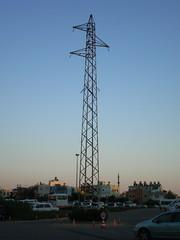power_tower: (62, 12, 114, 203)
